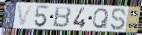4: (72, 6, 87, 29)
5: (33, 5, 50, 29)
B: (52, 6, 72, 29)
Q: (92, 7, 110, 29)
S: (110, 7, 128, 31)
V: (16, 4, 34, 27)
